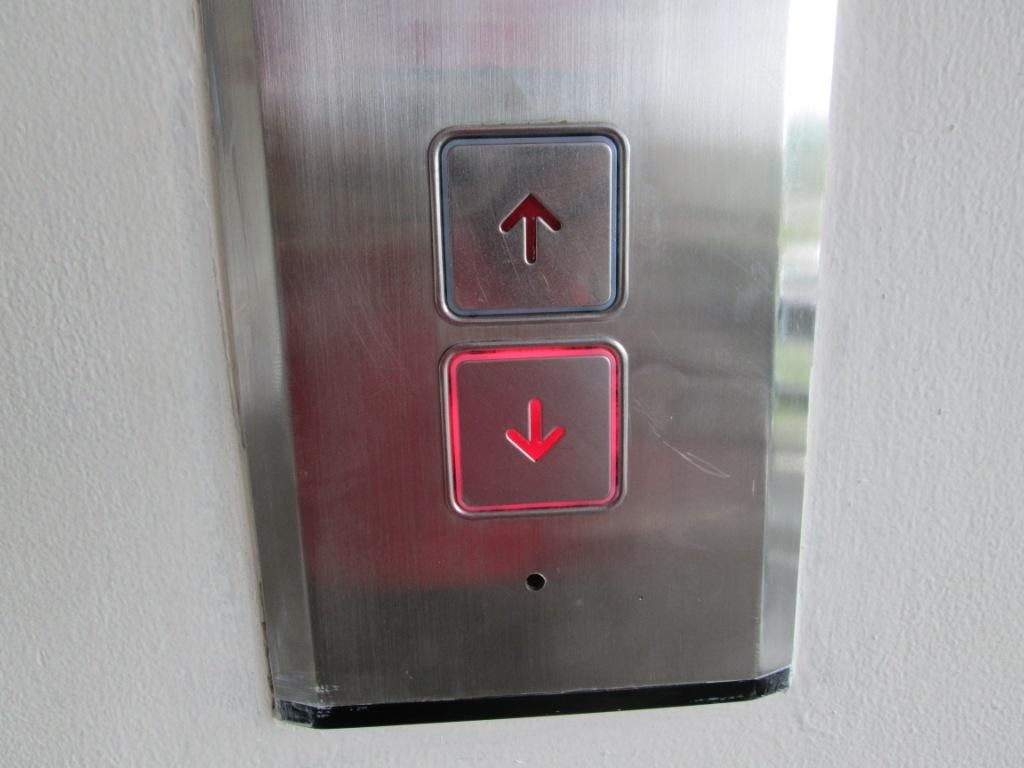down: (439, 336, 629, 517)
up: (427, 125, 632, 324)
